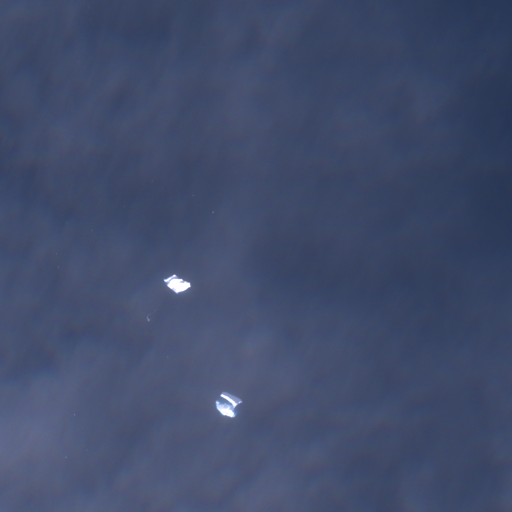Iceberg: (215, 392, 242, 417), (164, 274, 190, 293), (212, 211, 213, 212)
